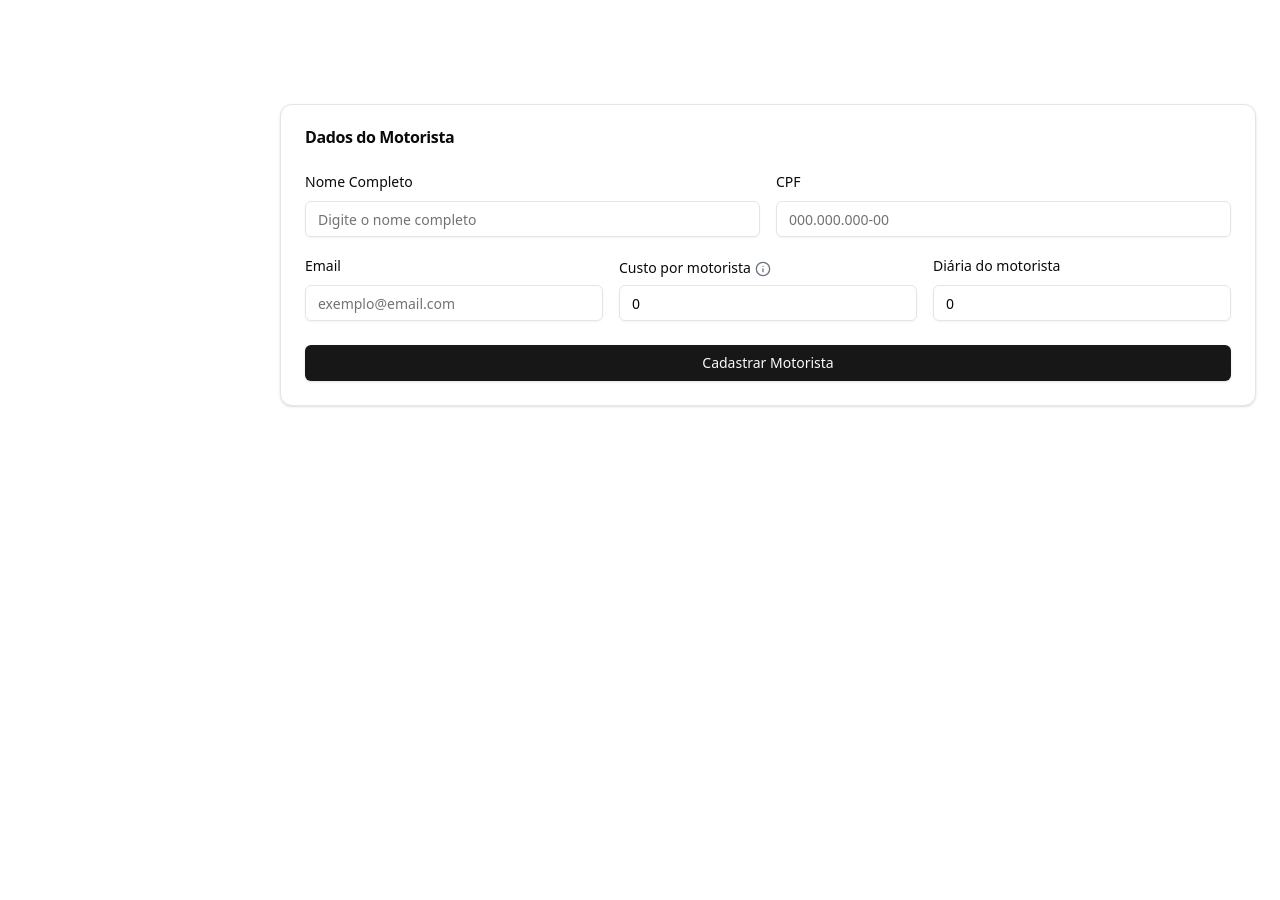
Scenario: DriverRegistrationForm › mostra erro se nome estiver vazio
The width and height of the screenshot is (1280, 900).
Click the button "Cadastrar Motorista" at (768, 363), box [305,345,1231,381]
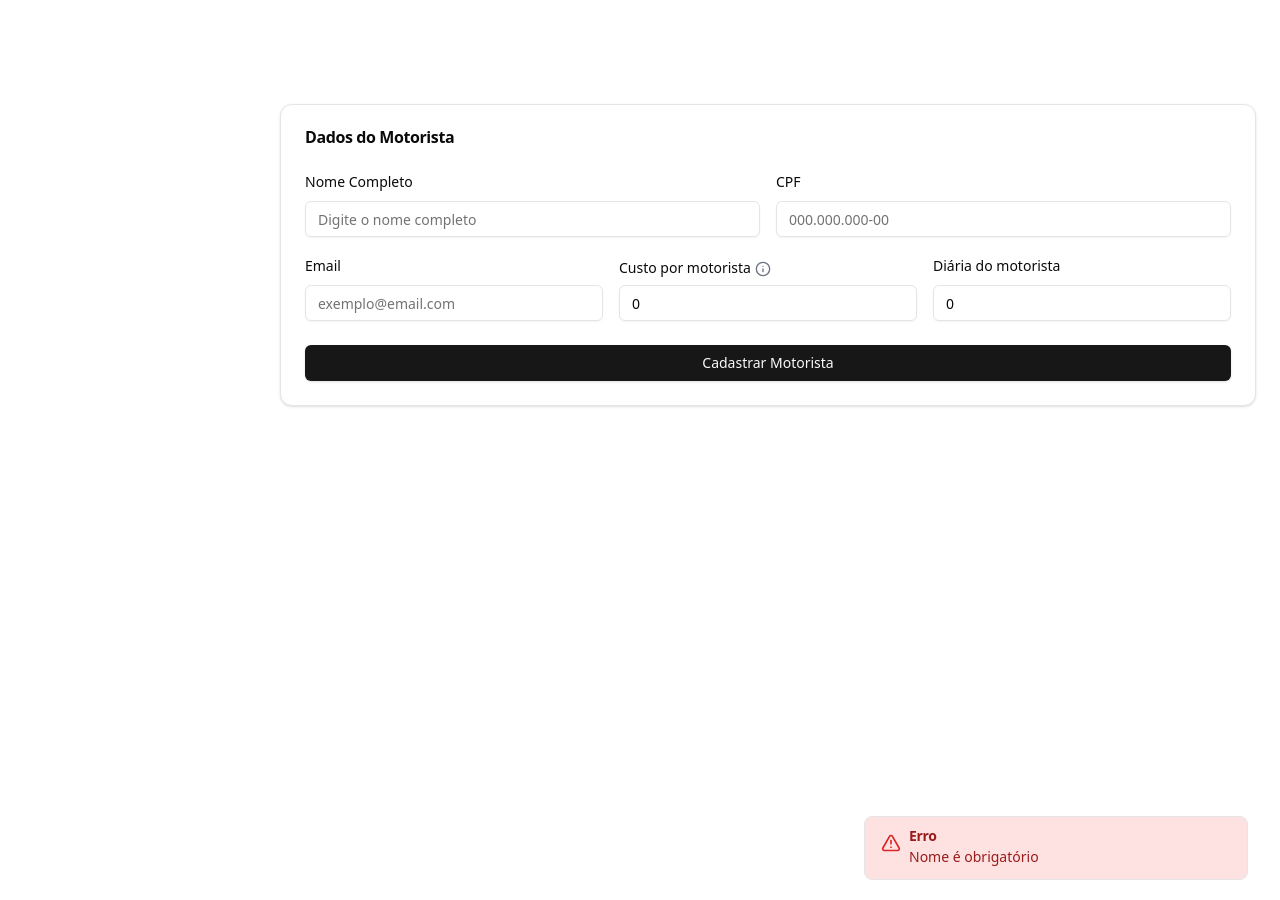
Result: the text "Nome é obrigatório" is shown at [909,847,1039,866]
